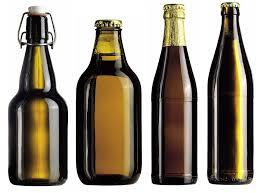Glass bottle: (4, 0, 261, 193)
